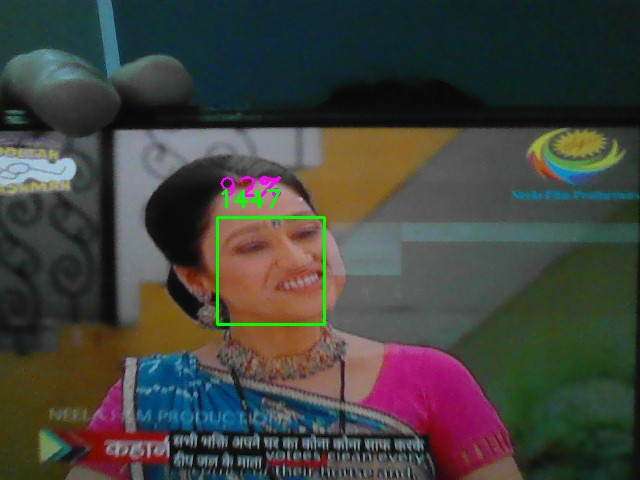fake: (217, 217, 325, 325)
